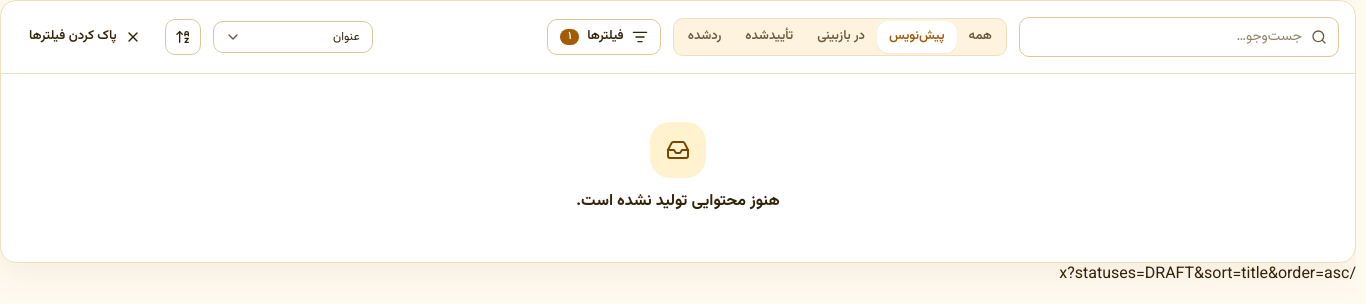
Scenario: ContentsTable filters › keeps the sorting when the filters are cleared
Click the button "پاک کردن فیلترها".
click(85, 37)  # box top-left (17, 19), bottom-right (153, 55)
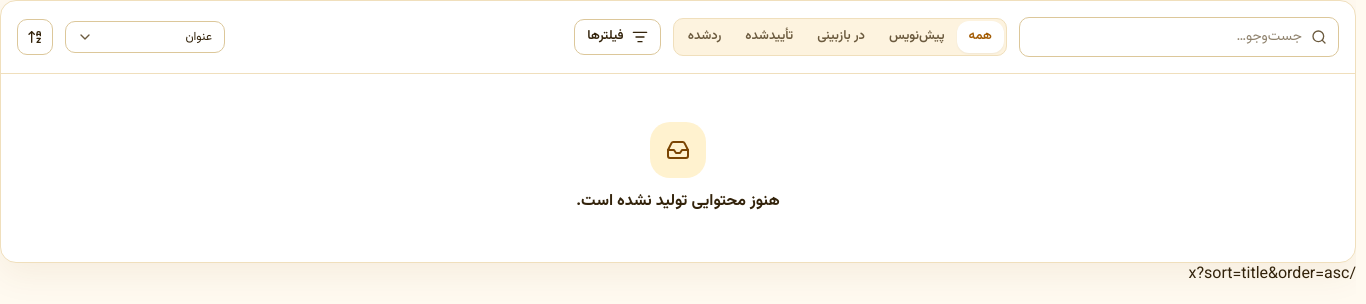
Check: the text with test id "where" reads "/x?sort=title&order=asc", box top-left (1189, 262), bottom-right (1356, 287)
